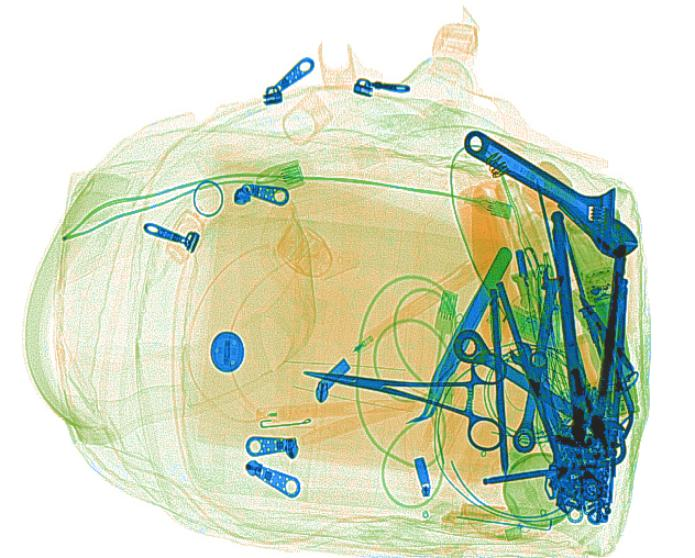battery: (591, 291, 633, 370)
scissors: (300, 351, 505, 451)
